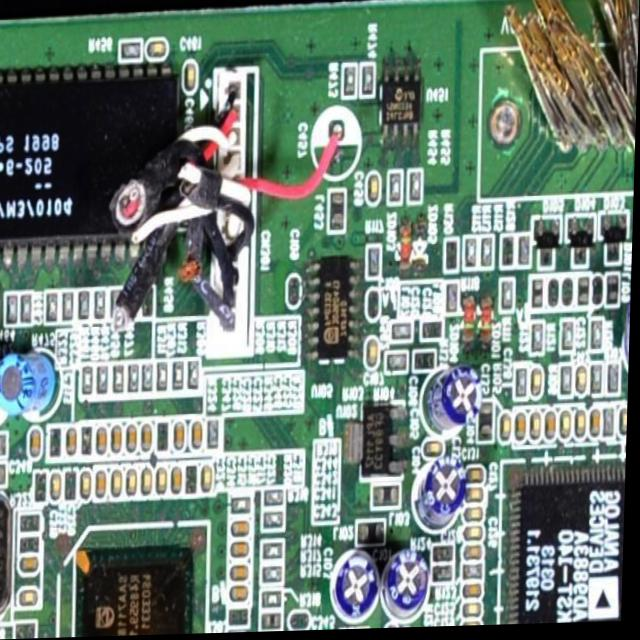IC: (63, 532, 203, 638), (311, 258, 359, 369), (356, 405, 412, 486)
capacitor: (144, 31, 176, 75), (182, 51, 207, 106), (361, 164, 388, 214), (421, 439, 453, 470), (558, 406, 579, 451), (286, 273, 307, 318), (363, 337, 389, 373), (227, 517, 261, 544), (366, 290, 389, 327), (20, 550, 50, 578), (66, 423, 87, 463), (20, 584, 48, 612), (228, 583, 257, 610), (27, 421, 48, 458), (174, 417, 195, 454), (548, 411, 568, 449), (124, 421, 145, 457), (113, 423, 135, 457), (144, 463, 164, 500), (113, 465, 132, 503), (81, 465, 100, 502), (125, 464, 145, 499), (516, 413, 535, 449), (531, 410, 549, 447), (157, 464, 175, 500), (230, 565, 258, 588), (143, 421, 161, 456), (591, 275, 608, 312), (96, 425, 116, 456), (499, 414, 517, 448), (591, 409, 609, 443), (98, 466, 115, 501), (203, 466, 220, 499), (578, 410, 594, 445), (464, 602, 490, 623), (466, 585, 492, 606), (467, 468, 491, 490), (576, 368, 592, 401), (192, 421, 209, 452), (549, 282, 566, 313), (234, 540, 260, 560), (464, 509, 491, 528), (464, 547, 488, 568), (466, 528, 492, 547), (174, 467, 191, 496), (467, 489, 489, 511), (562, 280, 577, 311), (533, 369, 546, 401), (621, 407, 630, 444), (386, 625, 409, 631), (463, 624, 488, 629), (228, 631, 253, 634)
resistor: (109, 30, 150, 69), (337, 59, 364, 107), (358, 54, 383, 101), (15, 511, 50, 542), (478, 228, 500, 277), (384, 169, 409, 212), (406, 166, 429, 212), (366, 238, 388, 285), (555, 319, 581, 357), (518, 228, 537, 277), (501, 276, 523, 317), (445, 235, 466, 276), (172, 353, 192, 396), (18, 531, 51, 557), (463, 233, 481, 278), (262, 565, 293, 591), (603, 409, 623, 449), (530, 324, 552, 360), (386, 354, 416, 380), (588, 322, 610, 357), (514, 367, 533, 407), (264, 540, 293, 566), (34, 471, 56, 505), (143, 362, 163, 397), (500, 237, 517, 277), (187, 464, 206, 499), (46, 290, 65, 325), (190, 359, 209, 393), (21, 285, 36, 328), (264, 511, 292, 534), (392, 317, 420, 340), (560, 364, 576, 403), (67, 466, 85, 500), (94, 288, 111, 324), (435, 565, 461, 588), (158, 418, 175, 453), (131, 365, 148, 399), (98, 367, 116, 399), (433, 545, 460, 566), (159, 363, 175, 398), (83, 370, 102, 399), (265, 590, 291, 611), (116, 361, 130, 399), (264, 491, 288, 513), (62, 289, 78, 322), (77, 290, 92, 323), (609, 368, 625, 398), (7, 292, 21, 326), (232, 498, 258, 516), (15, 624, 44, 639), (594, 367, 607, 399), (464, 571, 491, 585), (360, 627, 377, 631)
